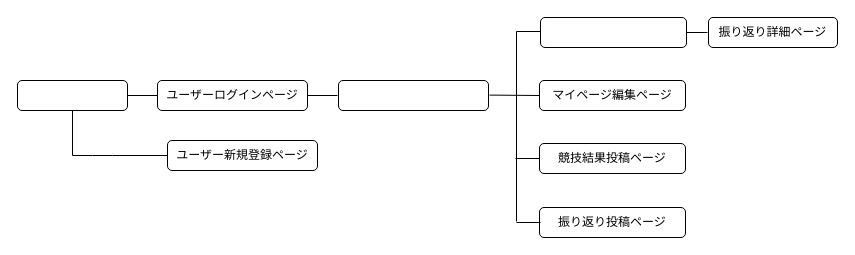
The diagram is 855 pixels wide and 255 high, and some of its shapes have lost their labels. Here are the shapes that lost their labels. From the top down, the box of each, then its label:
(540, 16, 686, 48): ユーザー詳細ページ
(16, 80, 128, 110): トップページ
(338, 80, 488, 110): ユーザー一覧ページ
